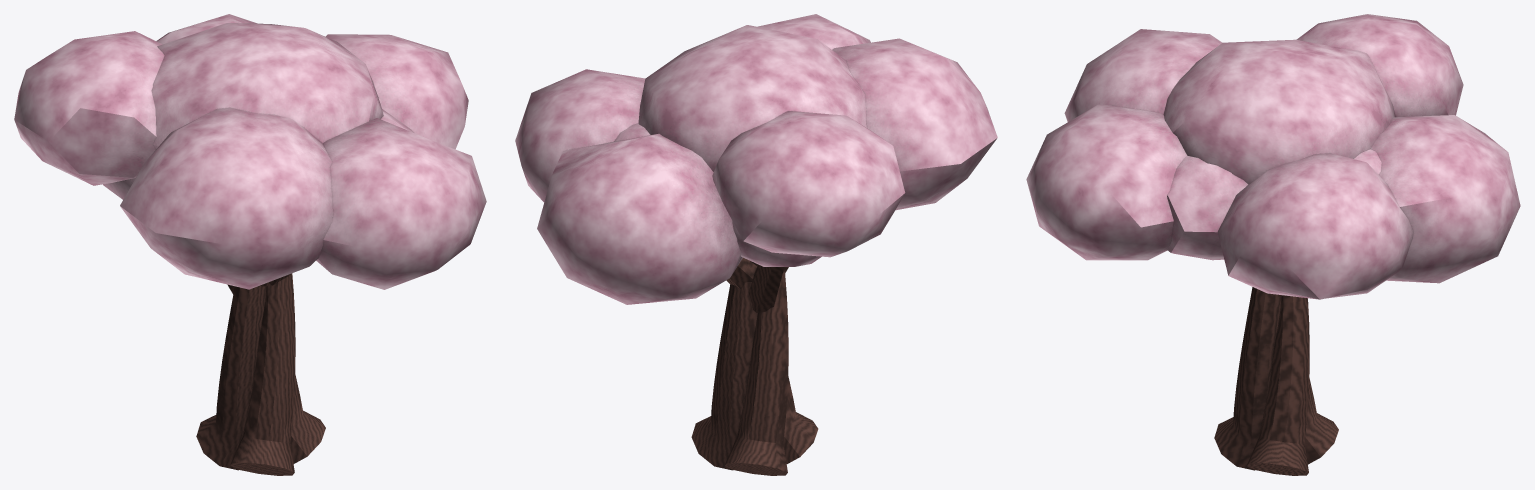
The model's file is sakura_tree.fbx.
The picture shows the model from 3 angles, left to right: view 1: azimuth 30°, elevation 25°; view 2: azimuth 150°, elevation 25°; view 3: azimuth 270°, elevation 25°; orthographic projection. The views are drawn at different scales.
Visible parts, largest first — view 1: sakura_tree; view 2: sakura_tree; view 3: sakura_tree.
Part boxes in pixels (bbox=[...]): sakura_tree: bbox=[14, 14, 486, 475]; sakura_tree: bbox=[515, 14, 997, 475]; sakura_tree: bbox=[1026, 14, 1520, 475].
Size of the model in its own units: 1576 by 1635 by 1757.
Materials: 1 (1 with a texture image).
